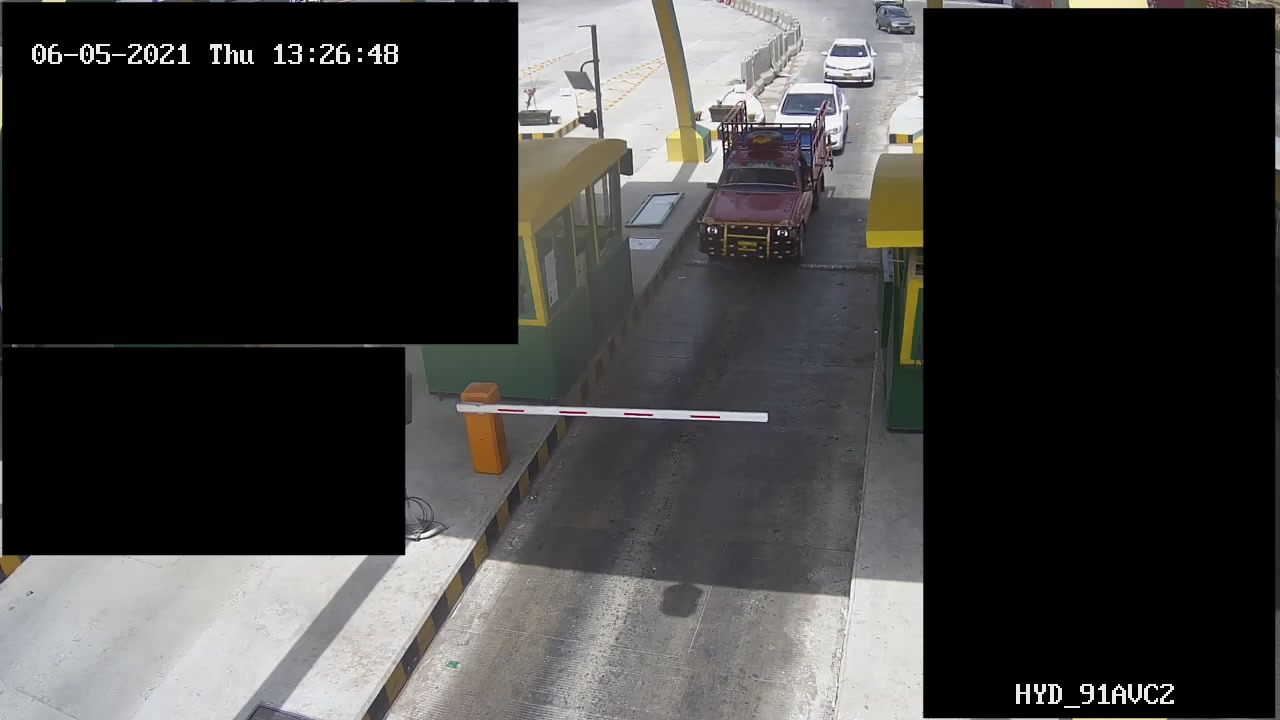F1: (688, 97, 842, 263)
